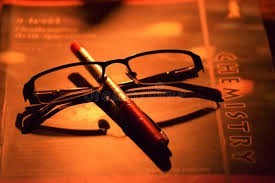pen: (74, 39, 166, 146)
